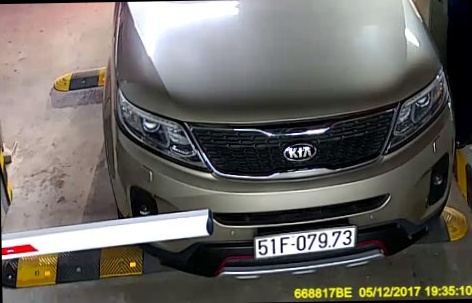plate: (246, 224, 361, 260)
